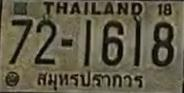1: (133, 18, 141, 66), (84, 18, 90, 66)
2: (34, 18, 55, 64)
6: (101, 20, 123, 65)
7: (9, 18, 32, 63)
8: (151, 21, 173, 66)
SPK: (36, 69, 149, 91)
